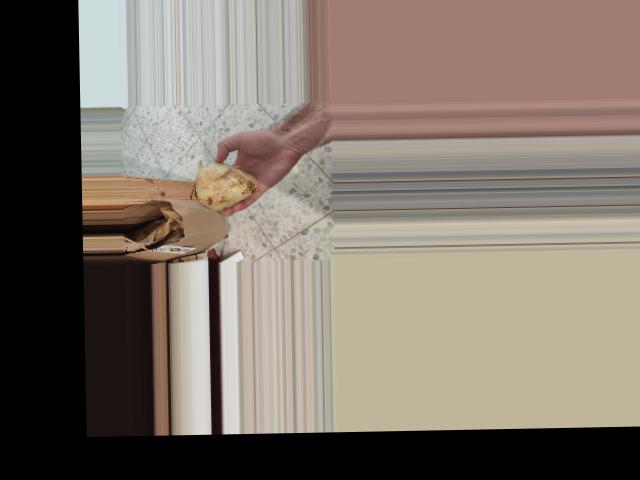onion: (188, 160, 262, 212)
